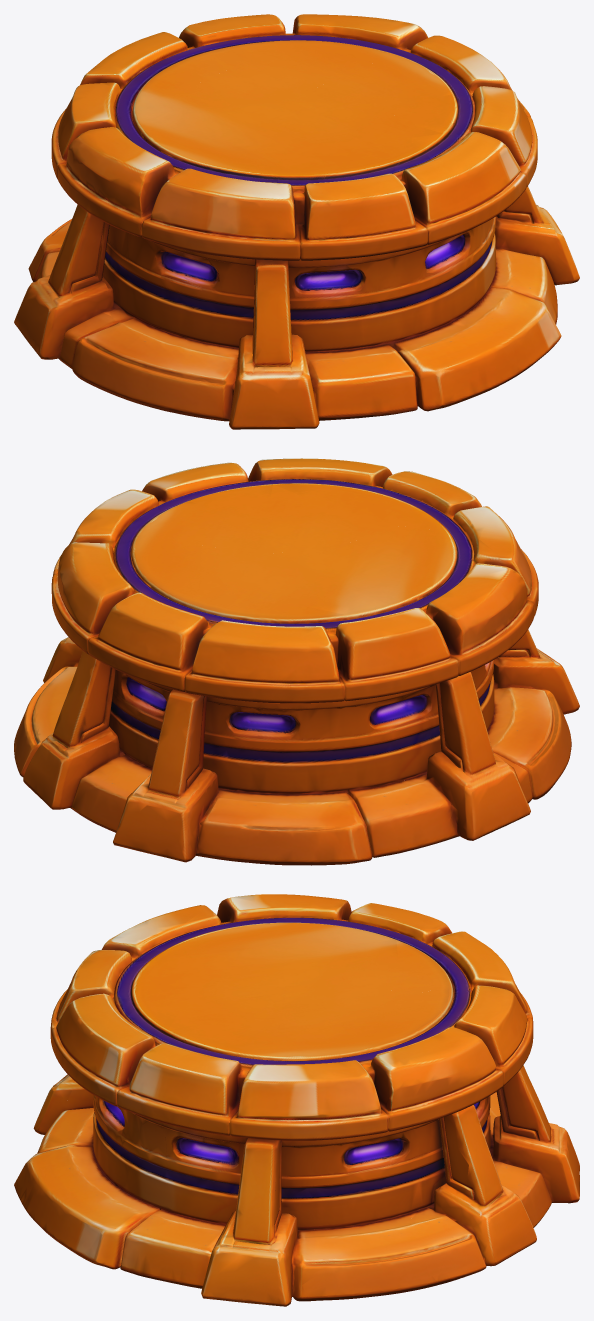
Rendered from platform.glb.
The picture shows the model from 3 angles, top to bottom: view 1: azimuth 30°, elevation 25°; view 2: azimuth 150°, elevation 25°; view 3: azimuth 270°, elevation 25°; orthographic projection.
Visible parts, largest first — view 1: Mythic_platform; view 2: Mythic_platform; view 3: Mythic_platform.
Part boxes in pixels (x1,y1,x2,y2): Mythic_platform: [14, 14, 579, 429]; Mythic_platform: [14, 458, 579, 865]; Mythic_platform: [14, 894, 579, 1306].
Bounding box in the file's own units: 4.25 × 1.67 × 4.21.
Materials: 1 (1 with a texture image).
